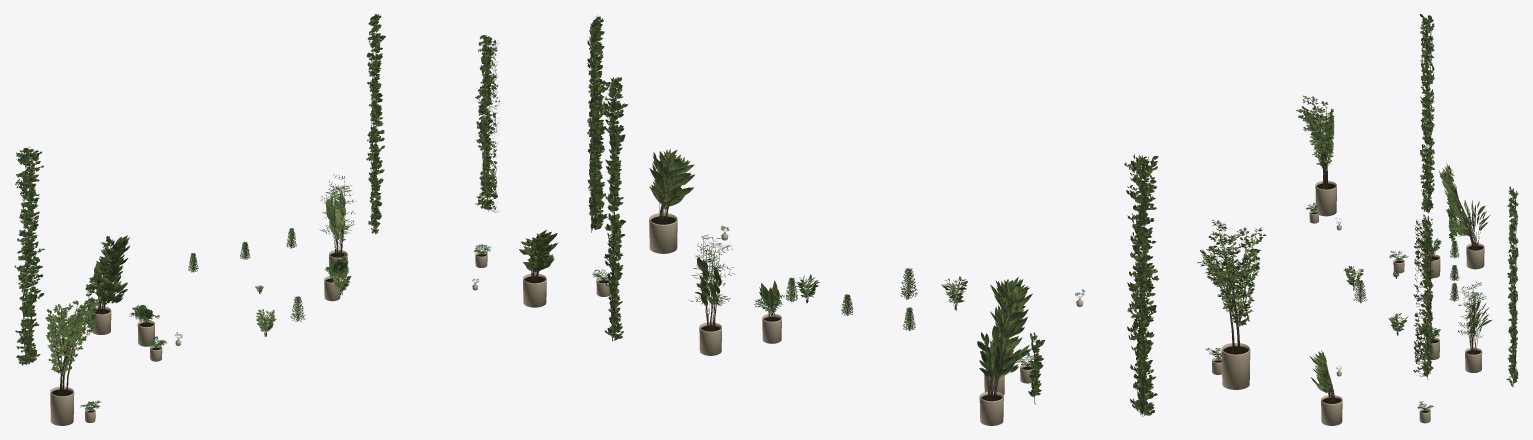
File: projection-botanical-v8.glb
3 views of the same model, side by side, from view 1: azimuth 30°, elevation 25°; view 2: azimuth 150°, elevation 25°; view 3: azimuth 270°, elevation 25° (orthographic). The views are drawn at different scales.
Parts seen in each view (by area): view 1: Projection Botanical V8 | foliage small climbing leaves, Projection Botanical V8 | planter champagne brushed metal, Projection Botanical V8 | foliage slender areca and bamboo, Projection Botanical V8 | foliage mature ficus with fine ret, Projection Botanical V8 | foliage broad glossy tropical unde, Projection Botanical V8 | bark textured natural warm grey tr, Projection Botanical V8 | foliage fine fern pinnae, Projection Botanical V8 | bark slender olive brown stems; view 2: Projection Botanical V8 | foliage small climbing leaves, Projection Botanical V8 | planter champagne brushed metal, Projection Botanical V8 | foliage slender areca and bamboo, Projection Botanical V8 | bark textured natural warm grey tr, Projection Botanical V8 | foliage mature ficus with fine ret, Projection Botanical V8 | foliage broad glossy tropical unde, Projection Botanical V8 | bark slender olive brown stems, Projection Botanical V8 | foliage fine fern pinnae, Projection Botanical V8 | soil dark coarse planting substrat; view 3: Projection Botanical V8 | foliage small climbing leaves, Projection Botanical V8 | planter champagne brushed metal, Projection Botanical V8 | foliage slender areca and bamboo, Projection Botanical V8 | bark textured natural warm grey tr, Projection Botanical V8 | bark slender olive brown stems, Projection Botanical V8 | foliage mature ficus with fine ret, Projection Botanical V8 | foliage broad glossy tropical unde, Projection Botanical V8 | foliage fine fern pinnae, Projection Botanical V8 | soil dark coarse planting substrat.
Boxes of the visible parts, <box> form: Projection Botanical V8 | foliage small climbing leaves: <box>14,14,499,365</box>; Projection Botanical V8 | planter champagne brushed metal: <box>50,250,546,425</box>; Projection Botanical V8 | foliage slender areca and bamboo: <box>91,174,558,304</box>; Projection Botanical V8 | foliage mature ficus with fine ret: <box>45,297,100,373</box>; Projection Botanical V8 | foliage broad glossy tropical unde: <box>93,190,548,331</box>; Projection Botanical V8 | bark textured natural warm grey tr: <box>22,24,538,395</box>; Projection Botanical V8 | foliage fine fern pinnae: <box>80,228,490,410</box>; Projection Botanical V8 | bark slender olive brown stems: <box>18,23,538,412</box>; Projection Botanical V8 | foliage small climbing leaves: <box>587,16,1158,415</box>; Projection Botanical V8 | planter champagne brushed metal: <box>596,213,1250,425</box>; Projection Botanical V8 | foliage slender areca and bamboo: <box>649,149,1032,380</box>; Projection Botanical V8 | bark textured natural warm grey tr: <box>590,15,1256,416</box>; Projection Botanical V8 | foliage mature ficus with fine ret: <box>1197,220,1265,326</box>; Projection Botanical V8 | foliage broad glossy tropical unde: <box>654,170,1007,377</box>; Projection Botanical V8 | bark slender olive brown stems: <box>589,22,1261,416</box>; Projection Botanical V8 | foliage fine fern pinnae: <box>592,268,1221,365</box>; Projection Botanical V8 | soil dark coarse planting substrat: <box>598,216,1248,401</box>; Projection Botanical V8 | foliage small climbing leaves: <box>1413,14,1518,386</box>; Projection Botanical V8 | planter champagne brushed metal: <box>1309,180,1484,425</box>; Projection Botanical V8 | foliage slender areca and bamboo: <box>1310,163,1487,392</box>; Projection Botanical V8 | bark textured natural warm grey tr: <box>1302,16,1516,402</box>; Projection Botanical V8 | bark slender olive brown stems: <box>1299,22,1518,412</box>; Projection Botanical V8 | foliage mature ficus with fine ret: <box>1296,95,1334,167</box>; Projection Botanical V8 | foliage broad glossy tropical unde: <box>1318,200,1492,390</box>; Projection Botanical V8 | foliage fine fern pinnae: <box>1306,203,1459,410</box>; Projection Botanical V8 | soil dark coarse planting substrat: <box>1311,183,1483,412</box>.
Bounding box in the file's own units: 14.22 × 6.16 × 5.99.
Materials: 11 (8 with a texture image).
